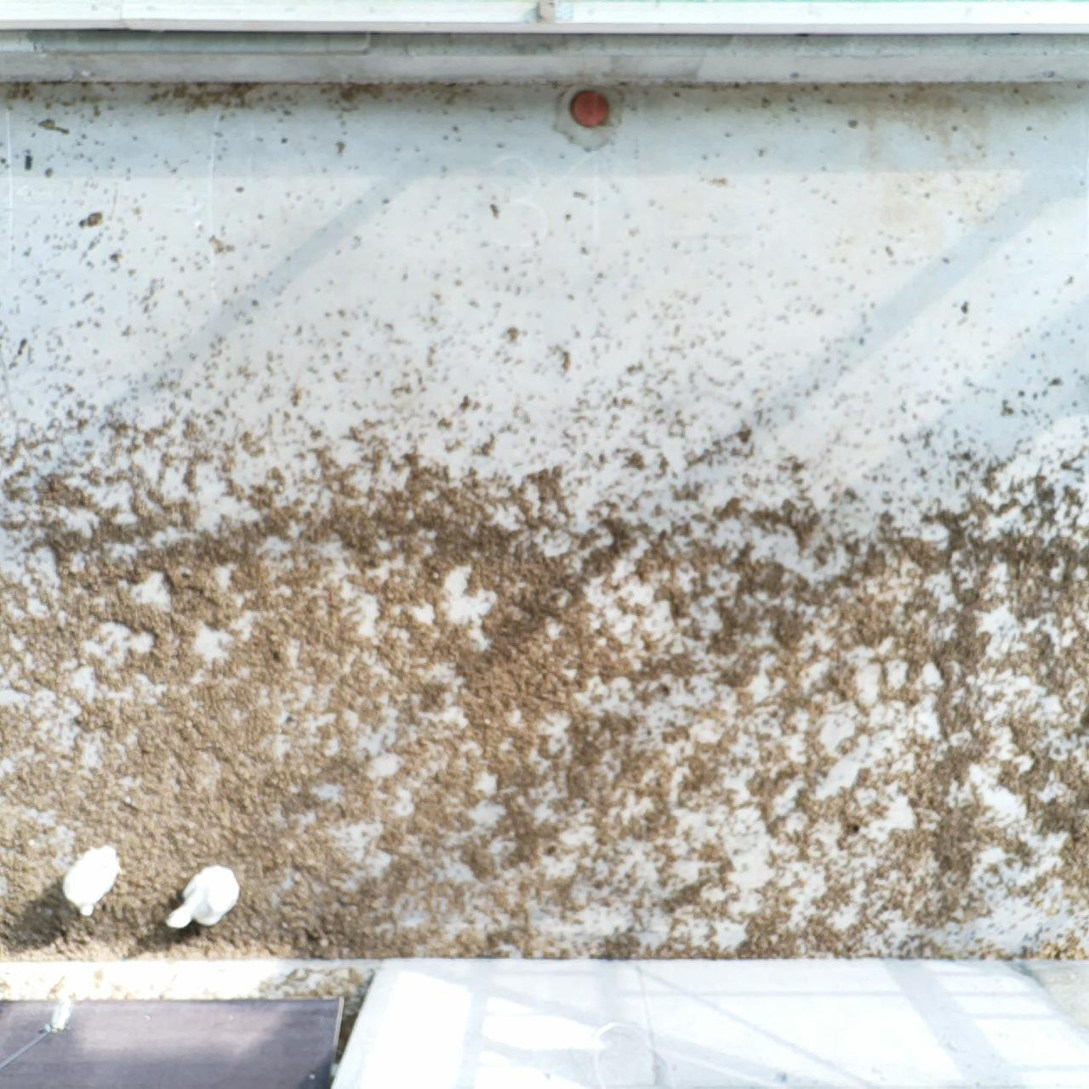chicken: (162, 866, 242, 929), (62, 845, 120, 917)
